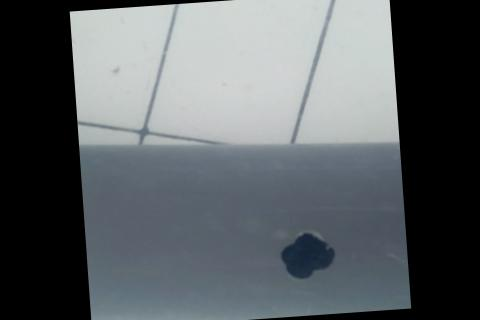kebocoran: (274, 225, 340, 283)
